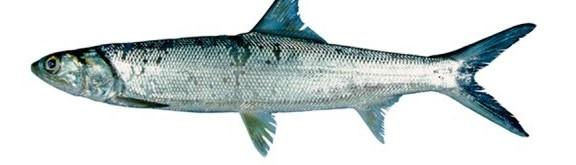Indo-Pacific Tarpon: (32, 0, 529, 156)
